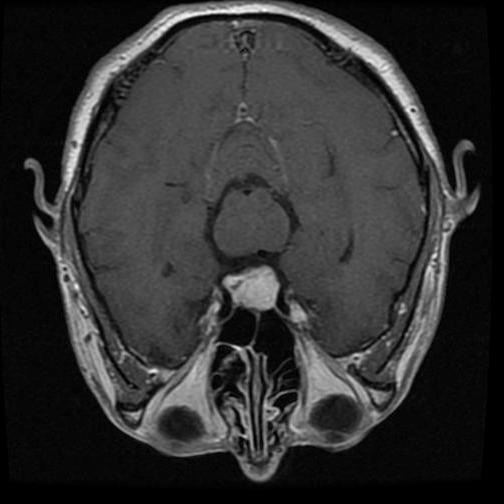Tumour-Pituitary: (201, 257, 298, 319)
